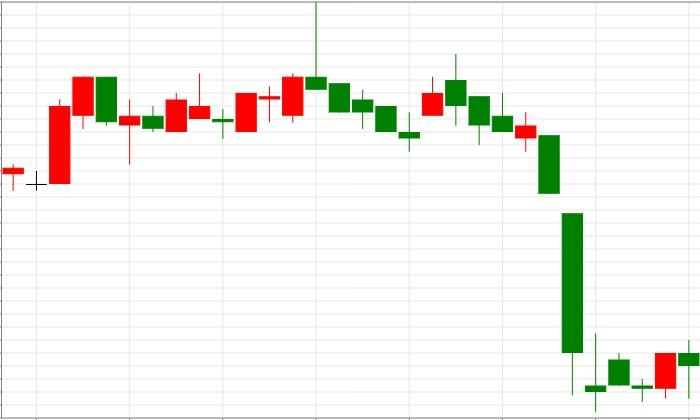morning_star_rise: (446, 54, 676, 411), (306, 2, 443, 152)
